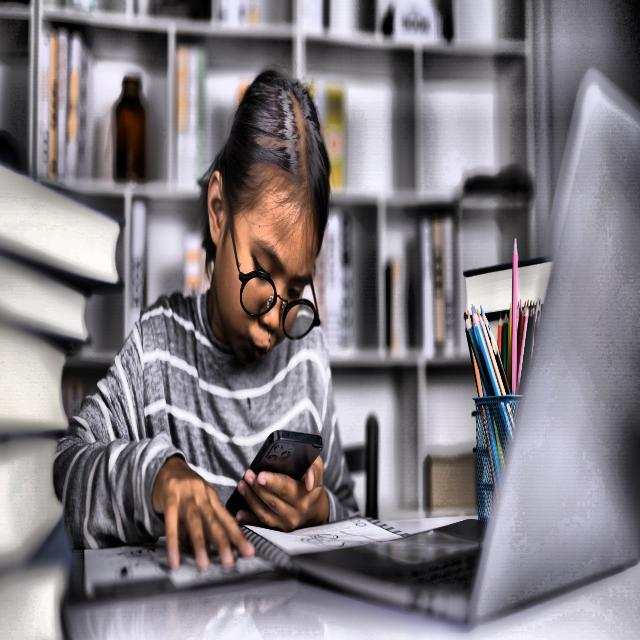Phone: (222, 430, 326, 524)
